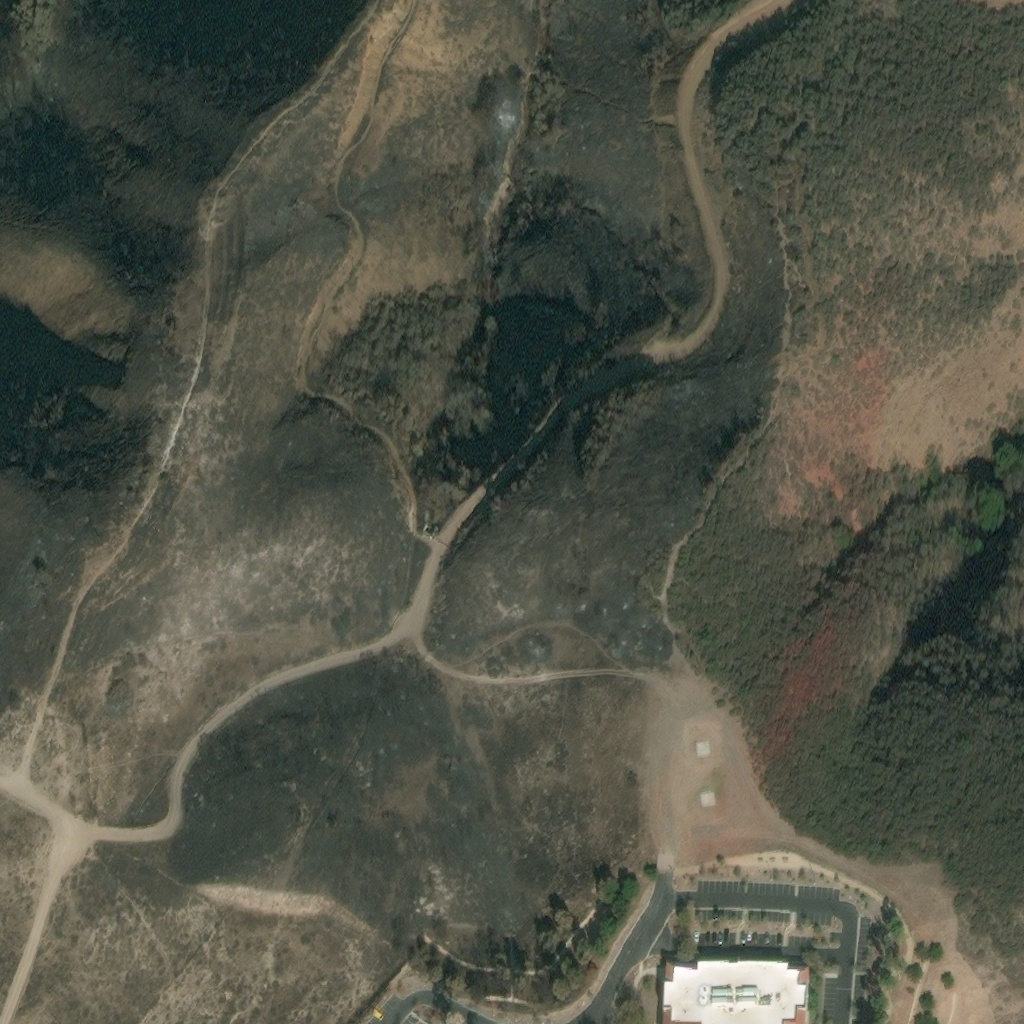0 no-damage: (661, 961, 810, 1023)
